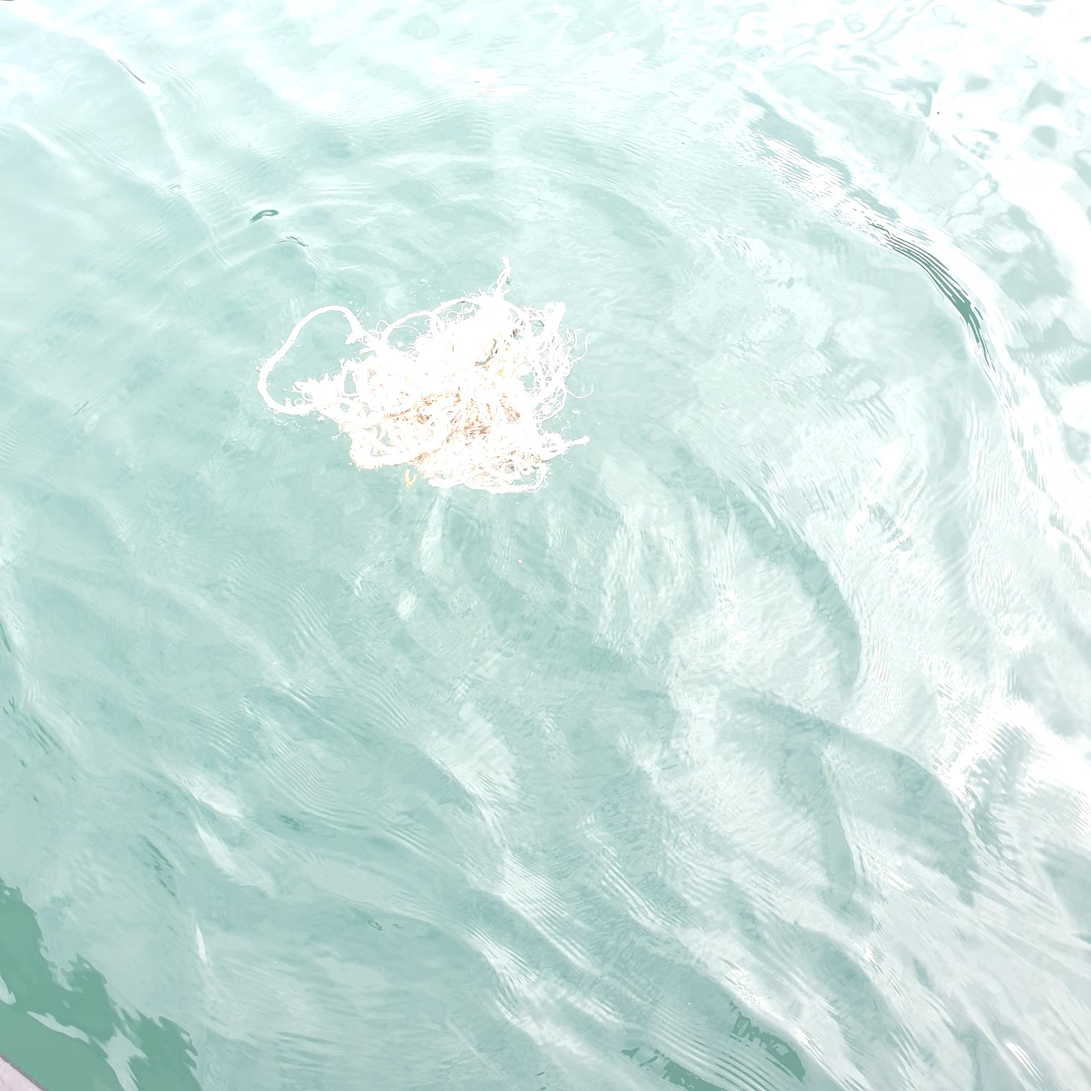sampah_terapung: (257, 256, 594, 494), (453, 320, 494, 360)
